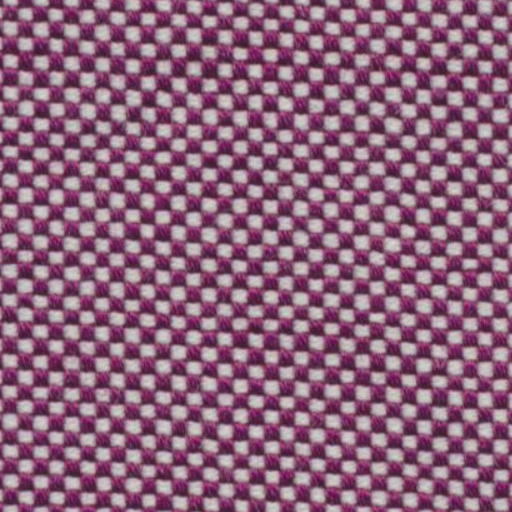TuoSha: (8, 27, 508, 123)
